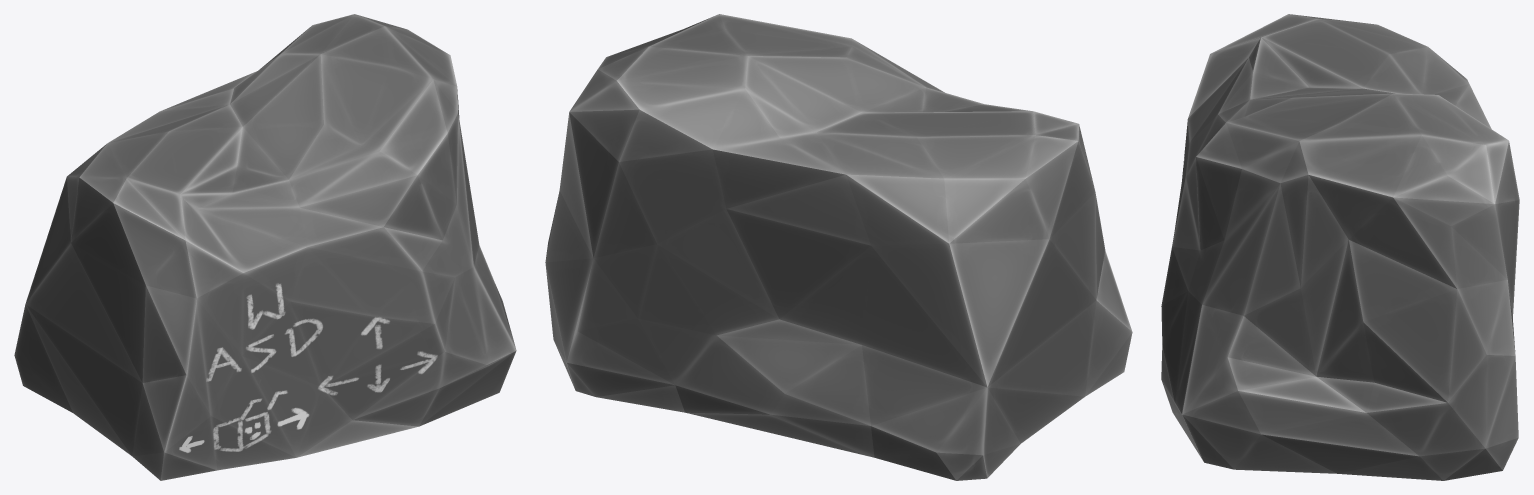
File: WASD_Rock.fbx
3 renders of one model, left to right at view 1: azimuth 30°, elevation 25°; view 2: azimuth 150°, elevation 25°; view 3: azimuth 270°, elevation 25°, orthographic. The views are drawn at different scales.
Visible parts, largest first — view 1: WASD_Rock; view 2: WASD_Rock; view 3: WASD_Rock.
Boxes of the visible parts, x1,y1,x2,y2 form: WASD_Rock: [14, 14, 516, 480]; WASD_Rock: [545, 14, 1132, 480]; WASD_Rock: [1161, 14, 1519, 480].
Size of the model in its own units: 724 by 500 by 507.
1 material, 1 textured.
